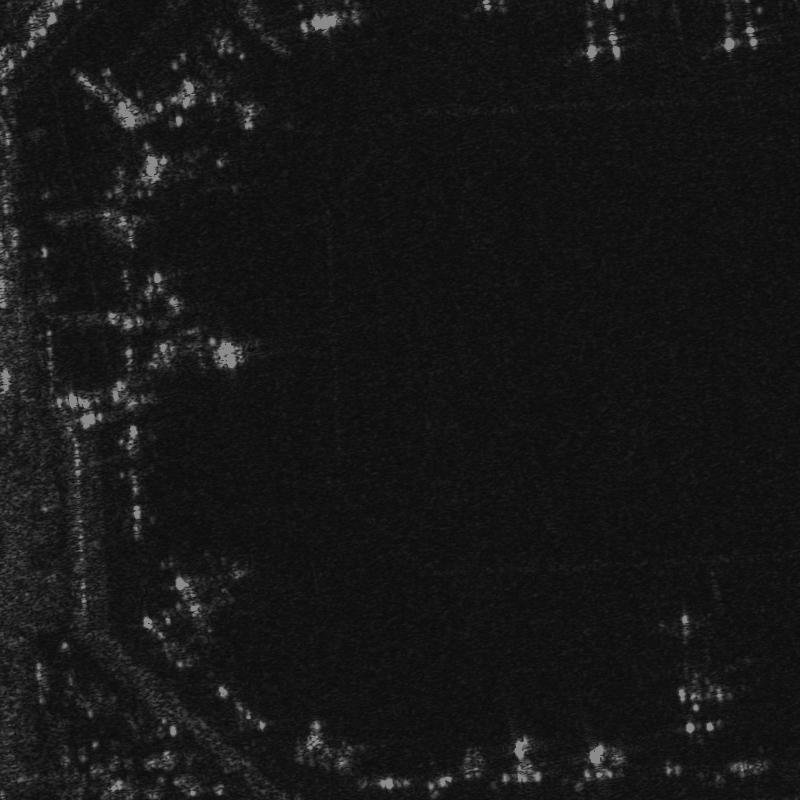Boeing787: (626, 605, 773, 746)
